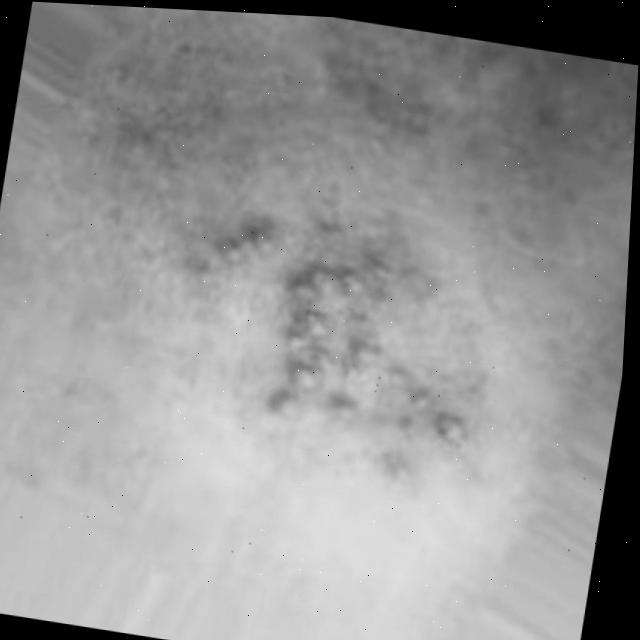Shingles: (259, 257, 491, 482), (188, 211, 275, 304)
